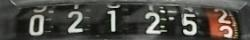digits: (213, 8, 233, 37), (144, 12, 167, 34), (180, 9, 197, 35), (66, 11, 84, 33), (29, 14, 44, 36), (106, 9, 116, 31)
